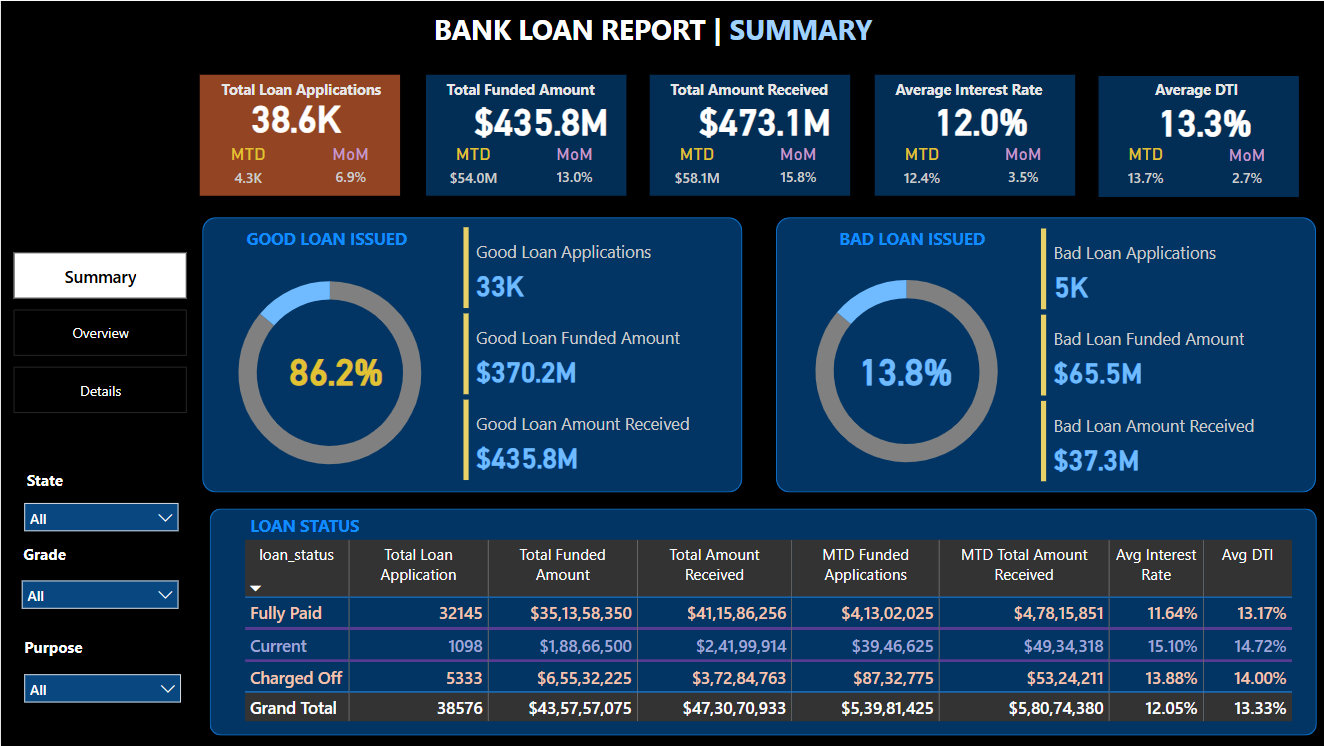

The dashboard page shown, as its layout file describes it:
{"tool":"powerbi","page":{"name":"Summary","canvas":[1280,720],"ordinal":0},"visuals":[{"type":"shape","box":[0,55.5,194.2,664.5],"z":0},{"type":"shape","box":[410.2,71.3,193.7,117],"z":0,"group":"g3"},{"type":"shape","box":[626.7,71.3,193.7,117],"z":0,"group":"g4"},{"type":"shape","box":[843.2,71.3,193.7,117],"z":0,"group":"g5"},{"type":"shape","box":[192.3,71.4,193.7,117],"z":0,"group":"g1"},{"type":"shape","box":[1059.7,71.9,193.7,117],"z":0,"group":"g6"},{"type":"card","fields":{"Values":["bank_loan_data.Total Loan Application"]},"box":[228.8,76.7,113.6,69.9],"z":1000,"group":"g1"},{"type":"card","fields":{"Values":["bank_loan_data.Total Funded Amount"]},"box":[447.1,82,147.9,64.6],"z":1000,"group":"g3"},{"type":"card","fields":{"Values":["bank_loan_data.Total Amount Received"]},"box":[663.6,82,147.9,64.6],"z":1000,"group":"g4"},{"type":"card","fields":{"Values":["bank_loan_data.Avg Interest Rate"]},"box":[872.1,82.5,147.9,64.6],"z":1000,"group":"g5"},{"type":"card","fields":{"Values":["bank_loan_data.Avg DTI"]},"box":[1088.6,83.1,147.9,64.6],"z":1000,"group":"g6"},{"type":"shape","box":[201.4,489.6,1069.7,219.5],"z":1000},{"type":"shape","box":[0,0,1280.3,55],"z":2000},{"type":"textbox","box":[204.7,71.3,197.8,40.3],"z":2000,"group":"g1"},{"type":"textbox","box":[420.9,71.3,197.8,40.3],"z":2000,"group":"g3"},{"type":"textbox","box":[637.4,71.3,197.8,40.3],"z":2000,"group":"g4"},{"type":"textbox","box":[853.9,71.3,197.8,40.3],"z":2000,"group":"g5"},{"type":"textbox","box":[1070.1,71.3,169.4,40.3],"z":2000,"group":"g6"},{"type":"textbox","box":[204.4,213.8,248.8,37.7],"z":2000,"group":"g7"},{"type":"textbox","box":[12.1,447.4,95.3,31.4],"z":2000,"group":"g9"},{"type":"textbox","box":[207.4,489.6,248.8,37.7],"z":2000,"group":"g8"},{"type":"card","title":"MTD","fields":{"Values":["bank_loan_data.MTD Loan Applications"]},"box":[204.7,137.2,69.5,51.1],"z":3000,"group":"g1"},{"type":"card","title":"MTD","fields":{"Values":["bank_loan_data.MTD Funded Applications"]},"box":[420.9,137.2,69.5,51.1],"z":3000,"group":"g3"},{"type":"card","title":"MTD","fields":{"Values":["bank_loan_data.MTD Total Amount Received"]},"box":[637.4,137.2,69.5,51.1],"z":3000,"group":"g4"},{"type":"card","title":"MTD","fields":{"Values":["bank_loan_data.MTD Average Interest Rate"]},"box":[853.9,137.2,69.5,51.1],"z":3000,"group":"g5"},{"type":"card","title":"MTD","fields":{"Values":["bank_loan_data.MTD Average DTI"]},"box":[1070.4,137.8,69.5,51.1],"z":3000,"group":"g6"},{"type":"textbox","box":[12.1,517.4,83.2,31.4],"z":3000},{"type":"group","id":"g1","title":"Group 2","box":[192.3,71.3,210.2,117.1],"z":3005,"group":"g2"},{"type":"card","title":"MoM","fields":{"Values":["bank_loan_data.MoM Loan Applications"]},"box":[303,138.2,69.5,49.8],"z":4000,"group":"g1"},{"type":"card","title":"MoM","fields":{"Values":["bank_loan_data.MoM Total Funded Amount"]},"box":[519.1,138.2,69.5,49.8],"z":4000,"group":"g3"},{"type":"card","title":"MoM","fields":{"Values":["bank_loan_data.MoM Total Amount Received"]},"box":[735.6,138.2,69.5,49.8],"z":4000,"group":"g4"},{"type":"card","title":"MoM","fields":{"Values":["bank_loan_data.MoM Average Interest Rate"]},"box":[952.1,138.2,69.5,49.8],"z":4000,"group":"g5"},{"type":"card","title":"MoM","fields":{"Values":["bank_loan_data.MoM Average DTI"]},"box":[1168.6,138.9,69.5,49.8],"z":4000,"group":"g6"},{"type":"textbox","box":[9.6,607.8,117,31.4],"z":4000},{"type":"shape","box":[748.6,208.6,521.4,265.7],"z":5000},{"type":"shape","box":[194.3,208.6,521.4,265.7],"z":6000},{"type":"textbox","box":[784,213.8,203.1,37.7],"z":7000},{"type":"card","fields":{"Values":["bank_loan_data.Good Loan %"]},"box":[262.2,322.8,123.7,64.6],"z":8000},{"type":"textbox","box":[412.9,4,520.4,45.7],"z":9000},{"type":"group","id":"g2","title":"Group 1","box":[192.3,71.3,210.2,117.1],"z":10000},{"type":"group","id":"g3","title":"Group 2","box":[410.2,71.3,208.4,117],"z":11000},{"type":"group","id":"g4","title":"Group 2","box":[626.7,71.3,208.4,117],"z":12000},{"type":"group","id":"g5","title":"Group 2","box":[843.2,71.3,208.4,117],"z":13000},{"type":"group","id":"g6","title":"Group 2","box":[1059.7,71.3,193.7,117],"z":14000},{"type":"donutChart","fields":{"Category":["bank_loan_data.Good Vs Bad Loan"],"Y":["bank_loan_data.Total Loan Application"]},"box":[203.8,242.4,250.9,229.1],"z":15000},{"type":"group","id":"g7","title":"Group 2","box":[204.4,213.8,248.8,37.7],"z":16000},{"type":"cardVisual","fields":{"Data":["bank_loan_data.Good Loan Applications","bank_loan_data.Good Loan Funded Amount","bank_loan_data.Good Loan Amount Received"]},"box":[441.1,213.8,266.3,256.9],"z":17000},{"type":"donutChart","fields":{"Category":["bank_loan_data.Good Vs Bad Loan"],"Y":["bank_loan_data.Total Loan Application"]},"box":[749.1,242.1,250.1,230],"z":18000},{"type":"card","fields":{"Values":["bank_loan_data.Bad Loan %"]},"box":[810.9,322.8,125.1,64.6],"z":19000},{"type":"cardVisual","fields":{"Data":["bank_loan_data.Bad Loan Applications","bank_loan_data.Bad Loan Funded Amount","bank_loan_data.Bad Loan Amount Received"]},"box":[999.2,215.2,266.3,256.9],"z":20000},{"type":"tableEx","fields":{"Values":["bank_loan_data.loan_status","bank_loan_data.Total Loan Application","bank_loan_data.Total Funded Amount","bank_loan_data.Total Amount Received","bank_loan_data.MTD Funded Applications","bank_loan_data.MTD Total Amount Received","bank_loan_data.Avg Interest Rate","bank_loan_data.Avg DTI"]},"box":[229.1,515,1025.1,194.2],"z":21000},{"type":"group","id":"g8","title":"Group 2","box":[207.4,489.6,248.4,37.4],"z":22000},{"type":"slicer","fields":{"Values":["bank_loan_data.address_state"]},"box":[12.1,474,168.8,43.4],"z":23000},{"type":"slicer","fields":{"Values":["bank_loan_data.grade"]},"box":[9.6,548.7,171.3,44.6],"z":24000},{"type":"slicer","fields":{"Values":["bank_loan_data.purpose"]},"box":[12.1,639.2,171.3,44.6],"z":25000},{"type":"group","id":"g9","title":"Group 2","box":[12.1,447.4,95.3,31.4],"z":26000},{"type":"pageNavigator","box":[12.1,242.4,168.8,158],"z":27000}]}

Visuals, with their boxes in screenshot pixels (x1, y1, x2, y2), scaled from the page's 1280x720 canvas onto the 1324x746 screenshot:
shape: [x1=0, y1=58, x2=201, y2=745]
shape: [x1=424, y1=74, x2=625, y2=195]
shape: [x1=648, y1=74, x2=849, y2=195]
shape: [x1=872, y1=74, x2=1073, y2=195]
shape: [x1=199, y1=74, x2=399, y2=195]
shape: [x1=1096, y1=74, x2=1296, y2=196]
card - bank_loan_data.Total Loan Application: [x1=237, y1=79, x2=354, y2=152]
card - bank_loan_data.Total Funded Amount: [x1=462, y1=85, x2=615, y2=152]
card - bank_loan_data.Total Amount Received: [x1=686, y1=85, x2=839, y2=152]
card - bank_loan_data.Avg Interest Rate: [x1=902, y1=85, x2=1055, y2=152]
card - bank_loan_data.Avg DTI: [x1=1126, y1=86, x2=1279, y2=153]
shape: [x1=208, y1=507, x2=1315, y2=735]
shape: [x1=0, y1=0, x2=1323, y2=57]
textbox: [x1=212, y1=74, x2=416, y2=116]
textbox: [x1=435, y1=74, x2=640, y2=116]
textbox: [x1=659, y1=74, x2=864, y2=116]
textbox: [x1=883, y1=74, x2=1088, y2=116]
textbox: [x1=1107, y1=74, x2=1282, y2=116]
textbox: [x1=211, y1=222, x2=469, y2=261]
textbox: [x1=13, y1=464, x2=111, y2=496]
textbox: [x1=215, y1=507, x2=472, y2=546]
"MTD" card: [x1=212, y1=142, x2=284, y2=195]
"MTD" card: [x1=435, y1=142, x2=507, y2=195]
"MTD" card: [x1=659, y1=142, x2=731, y2=195]
"MTD" card: [x1=883, y1=142, x2=955, y2=195]
"MTD" card: [x1=1107, y1=143, x2=1179, y2=196]
textbox: [x1=13, y1=536, x2=99, y2=569]
"Group 2" group: [x1=199, y1=74, x2=416, y2=195]
"MoM" card: [x1=313, y1=143, x2=385, y2=195]
"MoM" card: [x1=537, y1=143, x2=609, y2=195]
"MoM" card: [x1=761, y1=143, x2=833, y2=195]
"MoM" card: [x1=985, y1=143, x2=1057, y2=195]
"MoM" card: [x1=1209, y1=144, x2=1281, y2=196]
textbox: [x1=10, y1=630, x2=131, y2=662]
shape: [x1=774, y1=216, x2=1314, y2=491]
shape: [x1=201, y1=216, x2=740, y2=491]
textbox: [x1=811, y1=222, x2=1021, y2=261]
card - bank_loan_data.Good Loan %: [x1=271, y1=334, x2=399, y2=401]
textbox: [x1=427, y1=4, x2=965, y2=51]
"Group 1" group: [x1=199, y1=74, x2=416, y2=195]
"Group 2" group: [x1=424, y1=74, x2=640, y2=195]
"Group 2" group: [x1=648, y1=74, x2=864, y2=195]
"Group 2" group: [x1=872, y1=74, x2=1088, y2=195]
"Group 2" group: [x1=1096, y1=74, x2=1296, y2=195]
donutChart - bank_loan_data.Good Vs Bad Loan x bank_loan_data.Total Loan Application: [x1=211, y1=251, x2=470, y2=489]
"Group 2" group: [x1=211, y1=222, x2=469, y2=261]
cardVisual - bank_loan_data.Good Loan Applications x bank_loan_data.Good Loan Funded Amount: [x1=456, y1=222, x2=732, y2=488]
donutChart - bank_loan_data.Good Vs Bad Loan x bank_loan_data.Total Loan Application: [x1=775, y1=251, x2=1034, y2=489]
card - bank_loan_data.Bad Loan %: [x1=839, y1=334, x2=968, y2=401]
cardVisual - bank_loan_data.Bad Loan Applications x bank_loan_data.Bad Loan Funded Amount: [x1=1034, y1=223, x2=1309, y2=489]
tableEx - bank_loan_data.loan_status x bank_loan_data.Total Loan Application: [x1=237, y1=534, x2=1297, y2=735]
"Group 2" group: [x1=215, y1=507, x2=471, y2=546]
slicer - bank_loan_data.address_state: [x1=13, y1=491, x2=187, y2=536]
slicer - bank_loan_data.grade: [x1=10, y1=569, x2=187, y2=615]
slicer - bank_loan_data.purpose: [x1=13, y1=662, x2=190, y2=708]
"Group 2" group: [x1=13, y1=464, x2=111, y2=496]
pageNavigator: [x1=13, y1=251, x2=187, y2=415]
